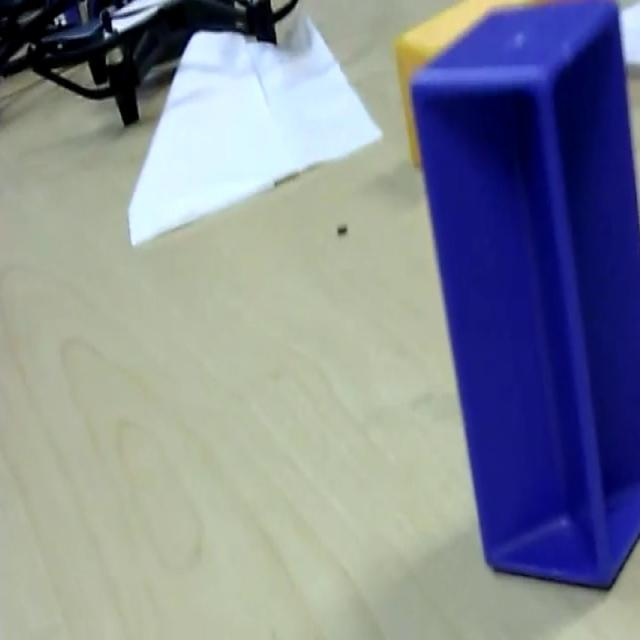blue_block: (408, 0, 638, 589)
